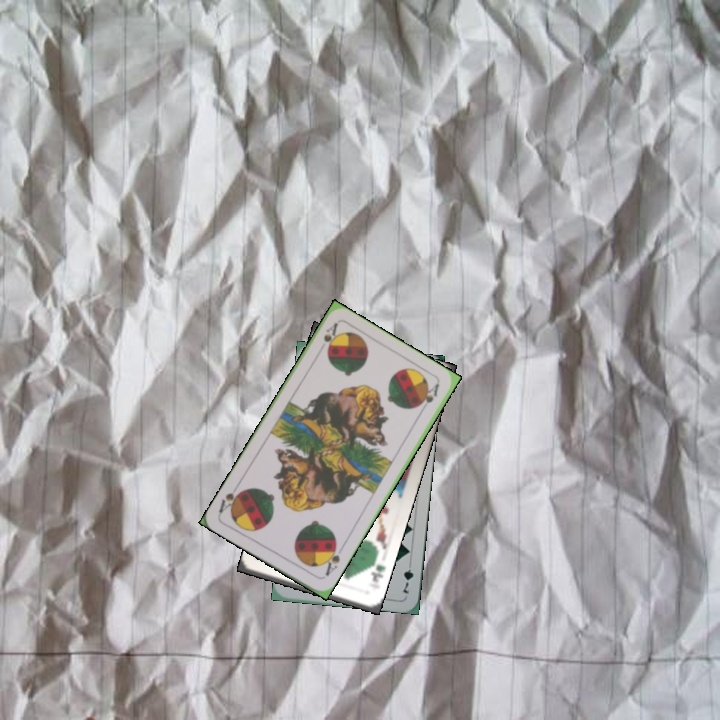G7: (397, 557, 416, 597)
GK: (367, 554, 388, 585)
SA: (319, 540, 343, 579), (319, 319, 340, 355)
